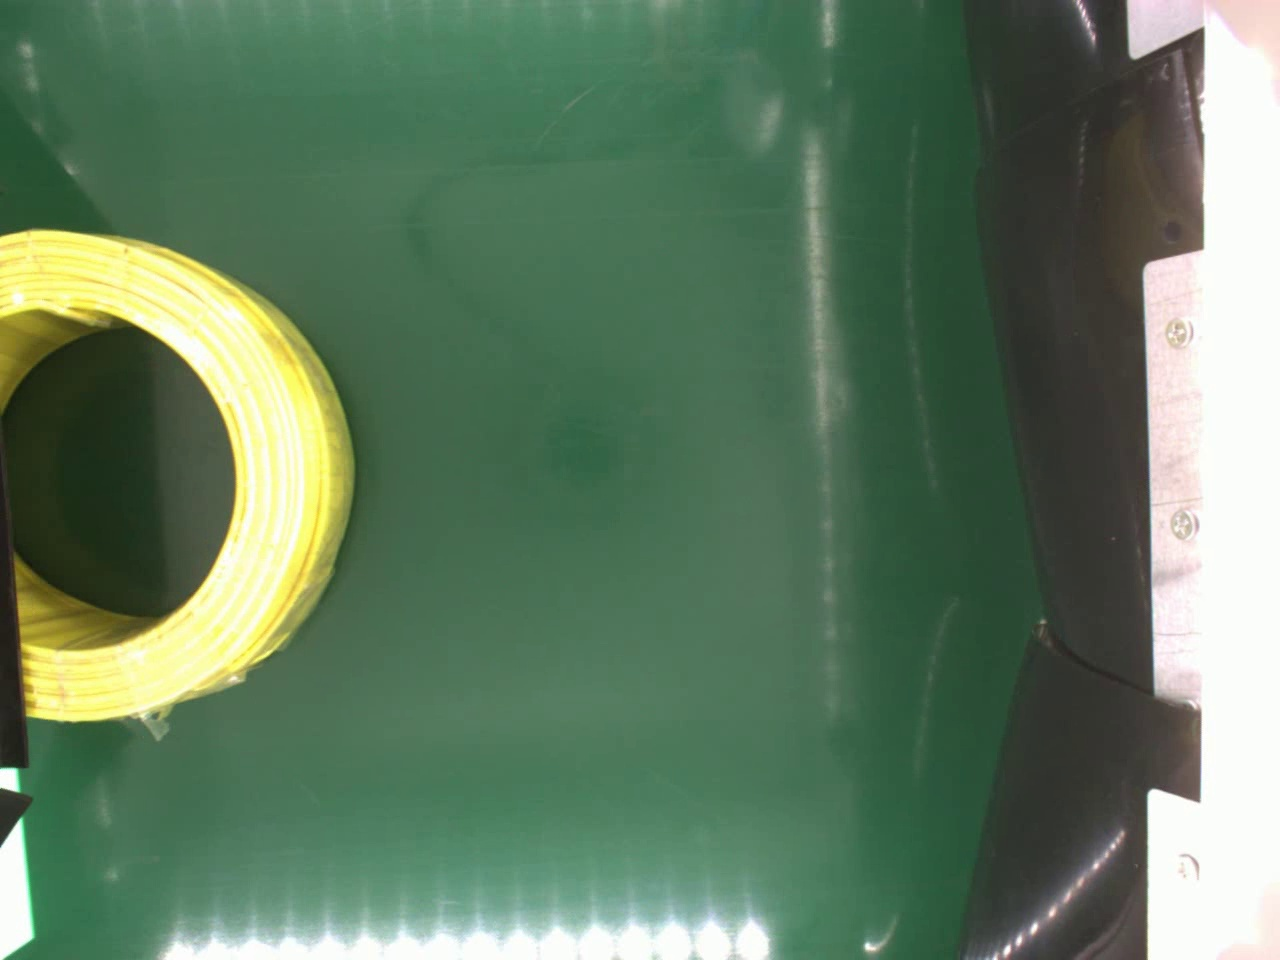yellow: (0, 224, 360, 720)
